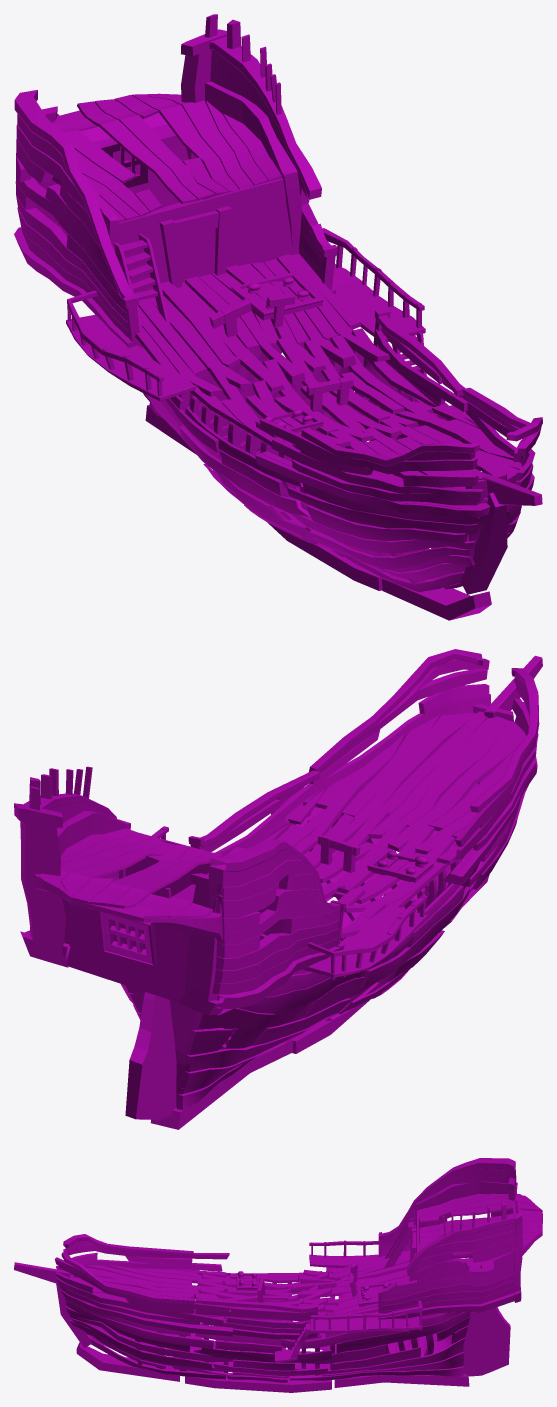
The model's file is Shipwreck_1.fbx.
3 views of the same model, one above another, from view 1: azimuth 30°, elevation 25°; view 2: azimuth 150°, elevation 25°; view 3: azimuth 270°, elevation 25° (orthographic). The views are drawn at different scales.
Parts seen in each view (by area): view 1: Shipwreck_1_Back, Shipwreck_1_Front, Shipwreck_1_Middle; view 2: Shipwreck_1_Back, Shipwreck_1_Front, Shipwreck_1_Middle; view 3: Shipwreck_1_Back, Shipwreck_1_Front, Shipwreck_1_Middle.
Part boxes in pixels (box(x1,y1,x2,y2)): Shipwreck_1_Back: box(14, 14, 448, 520); Shipwreck_1_Front: box(255, 379, 542, 620); Shipwreck_1_Middle: box(180, 315, 467, 590); Shipwreck_1_Back: box(14, 766, 427, 1129); Shipwreck_1_Front: box(271, 649, 542, 928); Shipwreck_1_Middle: box(200, 770, 470, 1053); Shipwreck_1_Back: box(274, 1158, 542, 1387); Shipwreck_1_Front: box(14, 1234, 233, 1381); Shipwreck_1_Middle: box(172, 1271, 331, 1392).
Size of the model in its own units: 11.98 by 14.75 by 32.7.
